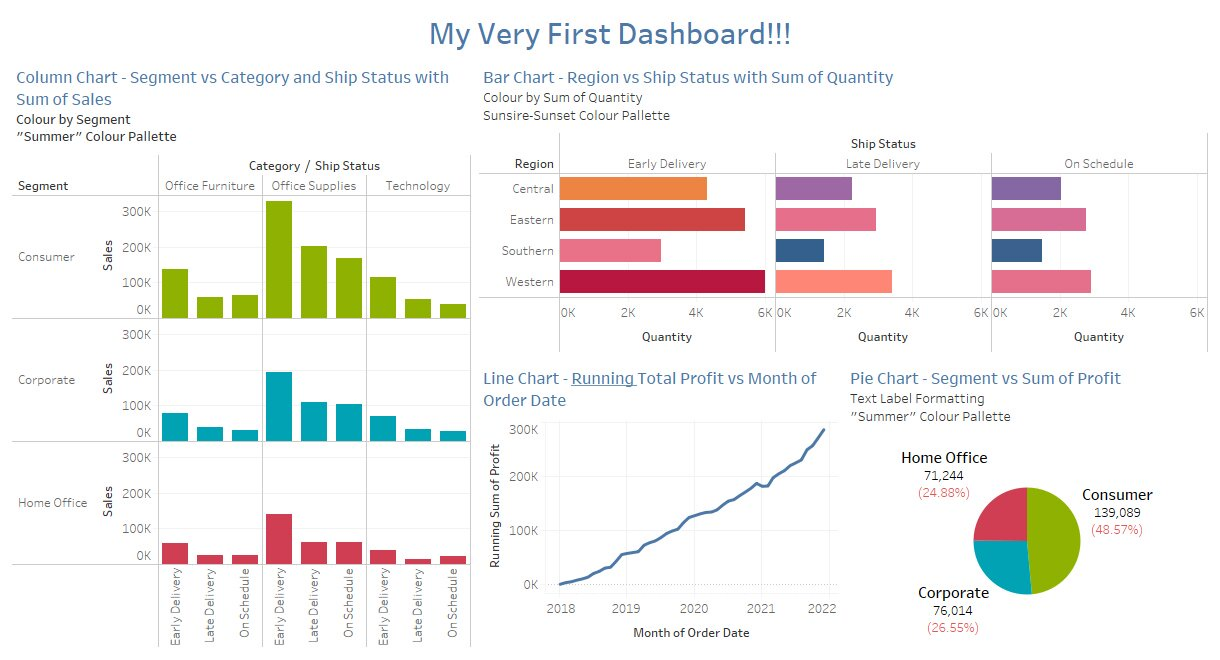

The dashboard page shown, as its layout file describes it:
{"tool":"tableau","page":{"name":"Tableau Project","canvas":[1000,1000],"units":"permille","ordinal":0},"visuals":[{"type":"title","box":[12.3,10,975.4,61.1]},{"type":"worksheet","title":"Bar","mark":"Bar","rows":["Region","Ship Status"],"cols":["Sales"],"box":[0,92.3,633.9,477.6]},{"type":"worksheet","title":"Pie","mark":"Pie","box":[640,164.6,350.8,276.8]},{"type":"worksheet","title":"Line","mark":"Line","rows":["Profit"],"cols":["Order Date"],"box":[6.2,572.3,498.5,422.7]},{"type":"worksheet","title":"Columns","mark":"Automatic","rows":["Sales"],"cols":["Segment","Category","Ship Status"],"box":[529.2,576.1,463.1,418.9]}]}

Visuals, with their boxes on the dashboard's canvas, which has no fixed pixel size, in thousandths of its width and height (x1, y1, x2, y2). These are canvas units, not pixel positions in the 1220x660 screenshot, which may show the page scaled, cropped or inside an application window:
title: (12,10,988,71)
"Bar" worksheet (Bar marks): (0,92,634,570)
"Pie" worksheet (Pie marks): (640,165,991,441)
"Line" worksheet (Line marks): (6,572,505,995)
"Columns" worksheet: (529,576,992,995)
